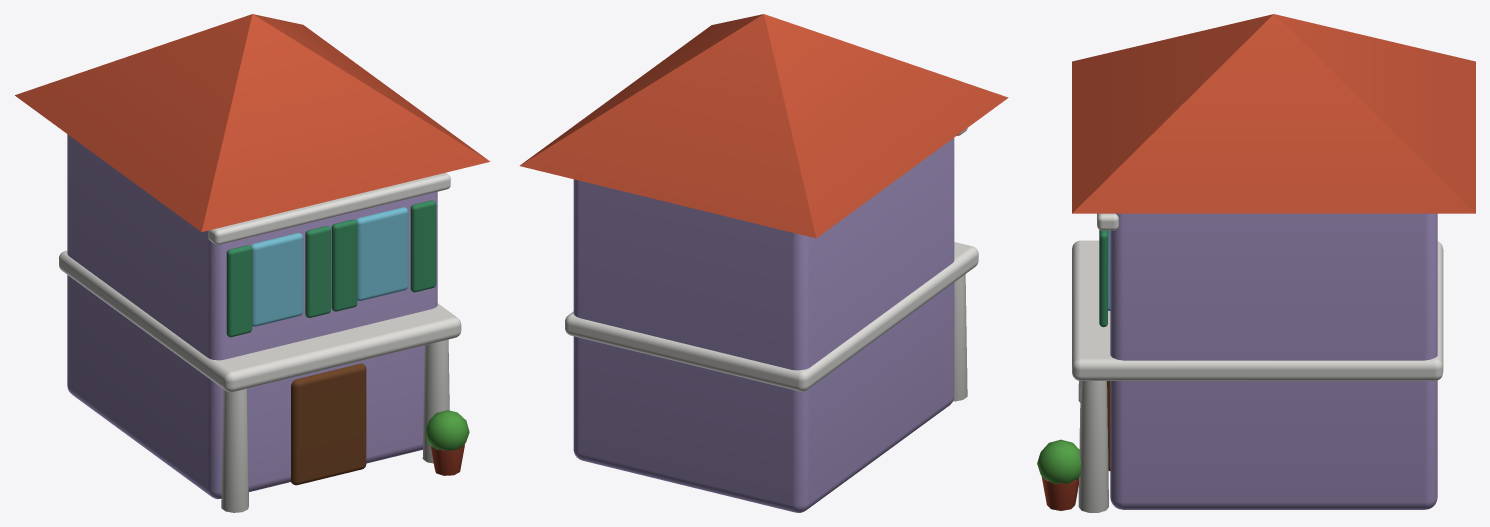
File: shophouse_lilac.glb
3 views of the same model, side by side, from view 1: azimuth 30°, elevation 25°; view 2: azimuth 150°, elevation 25°; view 3: azimuth 270°, elevation 25° (orthographic). The views are drawn at different scales.
Visible parts, largest first — view 1: shophouse; view 2: shophouse; view 3: shophouse.
Part boxes in pixels (left/top/right/bottom): shophouse: left=15, top=14, right=490, bottom=512; shophouse: left=519, top=14, right=1008, bottom=512; shophouse: left=1037, top=14, right=1475, bottom=512.
Size of the model in its own units: 3.3 by 4.45 by 4.02.
